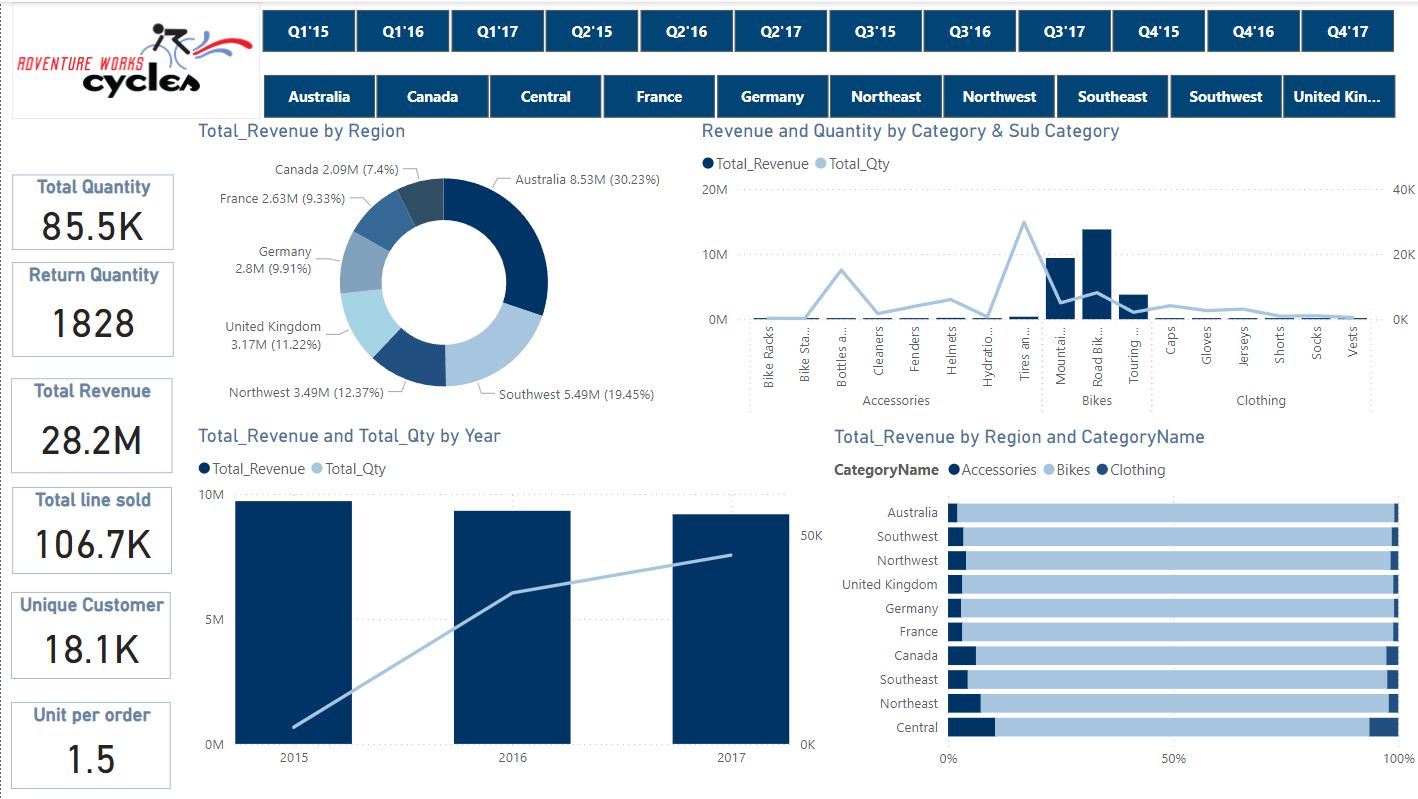

The dashboard page shown, as its layout file describes it:
{"tool":"powerbi","page":{"name":"Summary","canvas":[1280,720],"ordinal":0},"visuals":[{"type":"card","title":"Return Quantity","fields":{"Values":["AW_Measure's.Return_Qty"]},"box":[10.1,234.4,145.4,85.7],"z":0},{"type":"card","title":"Total Quantity","fields":{"Values":["AW_Measure's.Total_Qty"]},"box":[10.1,155.5,145.4,67.6],"z":1000},{"type":"card","title":"Total Revenue","fields":{"Values":["AW_Measure's.Total_Revenue"]},"box":[8.6,338.7,145.5,85.6],"z":2000},{"type":"card","title":"Total line sold","fields":{"Values":["AW_Measure's.Total_Lines"]},"box":[9.8,437.8,144.3,78.3],"z":3000},{"type":"card","title":"Unique Customer","fields":{"Values":["AW_Measure's.Unique_customer"]},"box":[8.6,531.9,144.3,78.3],"z":4000},{"type":"card","title":"Unit per order","fields":{"Values":["AW_Measure's.Units_Per_order"]},"box":[8.6,631,144.3,78.3],"z":5000},{"type":"slicer","fields":{"Values":["AW_Calender.Year_Qtr"]},"box":[209.9,0,1070.3,52.1],"z":6000},{"type":"slicer","fields":{"Values":["AW_Territories.Region"]},"box":[210.3,58.7,1070,52.6],"z":7000},{"type":"image","box":[10.1,0,224.3,105.9],"z":8000},{"type":"donutChart","fields":{"Category":["AW_Territories.Region"],"Y":["AW_Measure's.Total_Revenue"]},"box":[172.4,105.9,454.2,275],"z":9000},{"type":"lineStackedColumnComboChart","title":"Revenue and Quantity by Category & Sub Category","fields":{"Category":["Aw_Product_Categories.CategoryName","Aw_Product_Subcategories.SubcategoryName"],"Y2":["AW_Measure's.Total_Qty"],"Y":["AW_Measure's.Total_Revenue"]},"box":[626.7,105.9,653.7,275],"z":10000},{"type":"lineClusteredColumnComboChart","fields":{"Category":["AW_Calender.OrderDate.Variation.Date Hierarchy.Year","AW_Calender.OrderDate.Variation.Date Hierarchy.Quarter","AW_Calender.OrderDate.Variation.Date Hierarchy.Month","AW_Calender.OrderDate.Variation.Date Hierarchy.Day"],"Y2":["AW_Measure's.Total_Qty"],"Y":["AW_Measure's.Total_Revenue"]},"box":[172.4,381.5,573.5,317.9],"z":11000},{"type":"hundredPercentStackedBarChart","fields":{"Category":["AW_Territories.Region"],"Y":["AW_Measure's.Total_Revenue"],"Series":["Aw_Product_Categories.CategoryName"]},"box":[746,382,534,318],"z":12000}]}

Visuals, with their boxes in screenshot pixels (x1, y1, x2, y2), scaled from the page's 1280x720 canvas onto the 1418x799 screenshot:
"Return Quantity" card: (left=11, top=260, right=172, bottom=355)
"Total Quantity" card: (left=11, top=173, right=172, bottom=248)
"Total Revenue" card: (left=10, top=376, right=171, bottom=471)
"Total line sold" card: (left=11, top=486, right=171, bottom=573)
"Unique Customer" card: (left=10, top=590, right=169, bottom=677)
"Unit per order" card: (left=10, top=700, right=169, bottom=787)
slicer - AW_Calender.Year_Qtr: (left=233, top=0, right=1417, bottom=58)
slicer - AW_Territories.Region: (left=233, top=65, right=1417, bottom=124)
image: (left=11, top=0, right=260, bottom=118)
donutChart - AW_Territories.Region x AW_Measure's.Total_Revenue: (left=191, top=118, right=694, bottom=423)
"Revenue and Quantity by Category & Sub Category" lineStackedColumnComboChart: (left=694, top=118, right=1417, bottom=423)
lineClusteredColumnComboChart - AW_Calender.OrderDate.Variation.Date Hierarchy.Year x AW_Calender.OrderDate.Variation.Date Hierarchy.Quarter: (left=191, top=423, right=826, bottom=776)
hundredPercentStackedBarChart - AW_Territories.Region x AW_Measure's.Total_Revenue: (left=826, top=424, right=1417, bottom=777)
